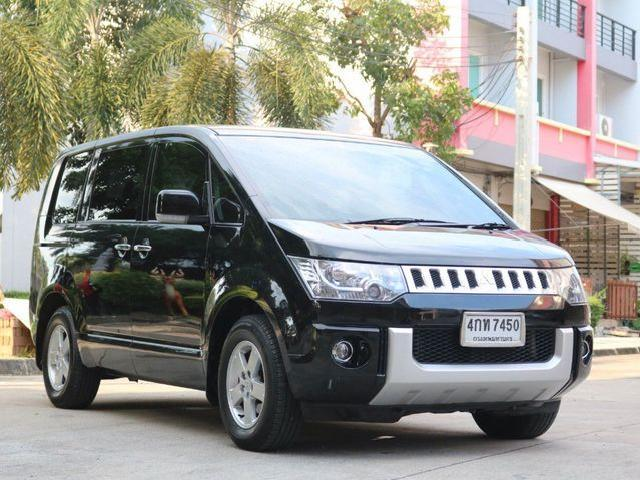van: (26, 124, 596, 452)
